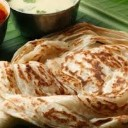parota: (2, 26, 128, 127)
